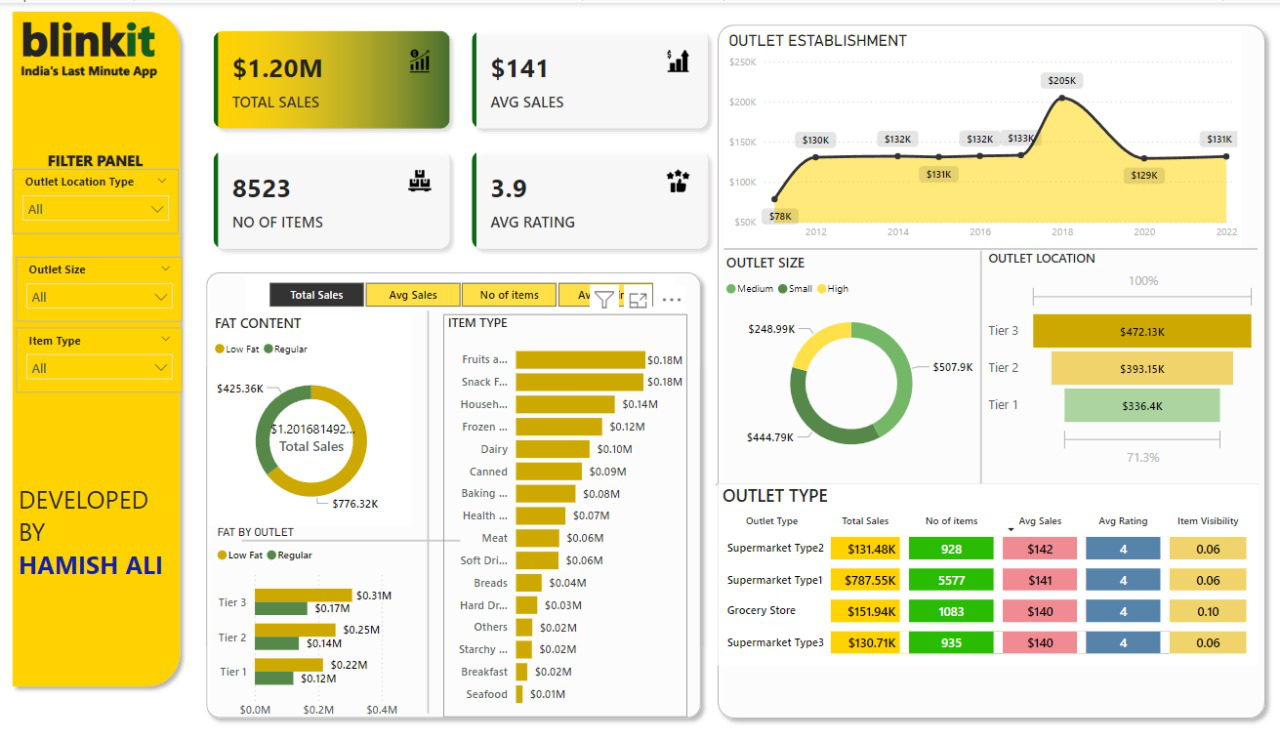

What the dashboard file says about the page in this screenshot:
{"tool":"powerbi","page":{"name":"Page 1","canvas":[1400,800],"ordinal":0},"visuals":[{"type":"shape","box":[10,0,200,750],"z":0},{"type":"textbox","box":[23.8,0,172,74.1],"z":1000},{"type":"textbox","box":[23.8,59.5,173.3,27.8],"z":2000},{"type":"cardVisual","fields":{"Data":["BlinkIT Grocery Data.Total Sales","BlinkIT Grocery Data.Avg Sales","BlinkIT Grocery Data.No of items","BlinkIT Grocery Data.Avg Rating"]},"box":[221.4,12.9,570,270],"z":3000},{"type":"shape","box":[221,283,554,501],"z":4000},{"type":"donutChart","title":"FAT CONTENT","fields":{"Y":["BlinkIT Grocery Data.Total Sales"],"Category":["BlinkIT Grocery Data.Item Fat Content"]},"box":[234.1,336,219.6,230.2],"z":5000},{"type":"slicer","fields":{"Values":["Metrics.Metrics"]},"box":[273,296.7,465.5,39.5],"z":6000},{"type":"cardVisual","fields":{"Data":["BlinkIT Grocery Data.Total Sales"]},"box":[280.9,435.5,127.8,69.4],"z":7000},{"type":"clusteredBarChart","title":"FAT BY OUTLET","fields":{"Y":["BlinkIT Grocery Data.Total Sales"],"Category":["BlinkIT Grocery Data.Outlet Location Type"],"Series":["BlinkIT Grocery Data.Item Fat Content"]},"box":[236.7,566.7,216.7,218.3],"z":8000},{"type":"shape","box":[268.3,566.7,236.7,33.3],"z":9000},{"type":"shape","box":[453.3,333.3,33.3,436.7],"z":10000},{"type":"barChart","title":"ITEM TYPE","fields":{"Y":["BlinkIT Grocery Data.Total Sales"],"Category":["BlinkIT Grocery Data.Item Type"]},"box":[486.7,336.7,265,436.7],"z":11000},{"type":"shape","box":[775,15,611.7,770],"z":12000},{"type":"lineChart","title":"OUTLET ESTABLISHMENT","fields":{"Category":["BlinkIT Grocery Data.Outlet Establishment Year"],"Y":["BlinkIT Grocery Data.Total Sales"]},"box":[791.7,30,561.7,235],"z":13000},{"type":"shape","box":[791.7,250,578.3,33.3],"z":14000},{"type":"donutChart","title":"OUTLET SIZE","fields":{"Y":["Sum(BlinkIT Grocery Data.Sales)"],"Category":["BlinkIT Grocery Data.Outlet Size"]},"box":[788.3,271.7,281.7,235],"z":15000},{"type":"shape","box":[1053.3,268.3,33.3,253.3],"z":16000},{"type":"funnel","title":"OUTLET LOCATION","fields":{"Y":["Sum(BlinkIT Grocery Data.Sales)"],"Category":["BlinkIT Grocery Data.Outlet Location Type"]},"box":[1073.3,266.7,300,240],"z":17000},{"type":"shape","box":[781.7,505,588.3,33.3],"z":18000},{"type":"pivotTable","title":"OUTLET TYPE","fields":{"Rows":["BlinkIT Grocery Data.Outlet Type"],"Values":["Sum(BlinkIT Grocery Data.Sales)","BlinkIT Grocery Data.No of items","BlinkIT Grocery Data.Avg Sales","BlinkIT Grocery Data.Avg Rating","Avg(BlinkIT Grocery Data.Item Visibility)"]},"box":[785,521.7,585,196.7],"z":19000},{"type":"slicer","fields":{"Values":["BlinkIT Grocery Data.Outlet Location Type"]},"box":[20,180,180,70],"z":20000},{"type":"slicer","fields":{"Values":["BlinkIT Grocery Data.Outlet Size"]},"box":[23.3,275,180,70],"z":21000},{"type":"slicer","fields":{"Values":["BlinkIT Grocery Data.Item Type"]},"box":[23.3,351.7,180,70],"z":22000},{"type":"textbox","box":[41.7,155,136.7,48.3],"z":23000},{"type":"textbox","box":[21.7,515,178.3,136.7],"z":24000}]}

Visuals, with their boxes in screenshot pixels (x1, y1, x2, y2), scaled from the page's 1400x800 canvas onto the 1280x740 screenshot:
shape: BBox(9, 0, 192, 694)
textbox: BBox(22, 0, 179, 69)
textbox: BBox(22, 55, 180, 81)
cardVisual - BlinkIT Grocery Data.Total Sales x BlinkIT Grocery Data.Avg Sales: BBox(202, 12, 724, 262)
shape: BBox(202, 262, 709, 725)
"FAT CONTENT" donutChart: BBox(214, 311, 415, 524)
slicer - Metrics.Metrics: BBox(250, 274, 675, 311)
cardVisual - BlinkIT Grocery Data.Total Sales: BBox(257, 403, 374, 467)
"FAT BY OUTLET" clusteredBarChart: BBox(216, 524, 415, 726)
shape: BBox(245, 524, 462, 555)
shape: BBox(414, 308, 445, 712)
"ITEM TYPE" barChart: BBox(445, 311, 687, 715)
shape: BBox(709, 14, 1268, 726)
"OUTLET ESTABLISHMENT" lineChart: BBox(724, 28, 1237, 245)
shape: BBox(724, 231, 1253, 262)
"OUTLET SIZE" donutChart: BBox(721, 251, 978, 469)
shape: BBox(963, 248, 993, 482)
"OUTLET LOCATION" funnel: BBox(981, 247, 1256, 469)
shape: BBox(715, 467, 1253, 498)
"OUTLET TYPE" pivotTable: BBox(718, 483, 1253, 665)
slicer - BlinkIT Grocery Data.Outlet Location Type: BBox(18, 166, 183, 231)
slicer - BlinkIT Grocery Data.Outlet Size: BBox(21, 254, 186, 319)
slicer - BlinkIT Grocery Data.Item Type: BBox(21, 325, 186, 390)
textbox: BBox(38, 143, 163, 188)
textbox: BBox(20, 476, 183, 603)
